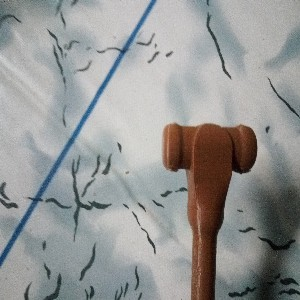palu: (162, 122, 257, 300)
